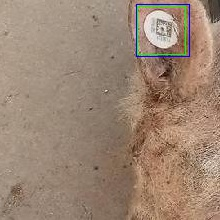text: (137, 6, 185, 54)
